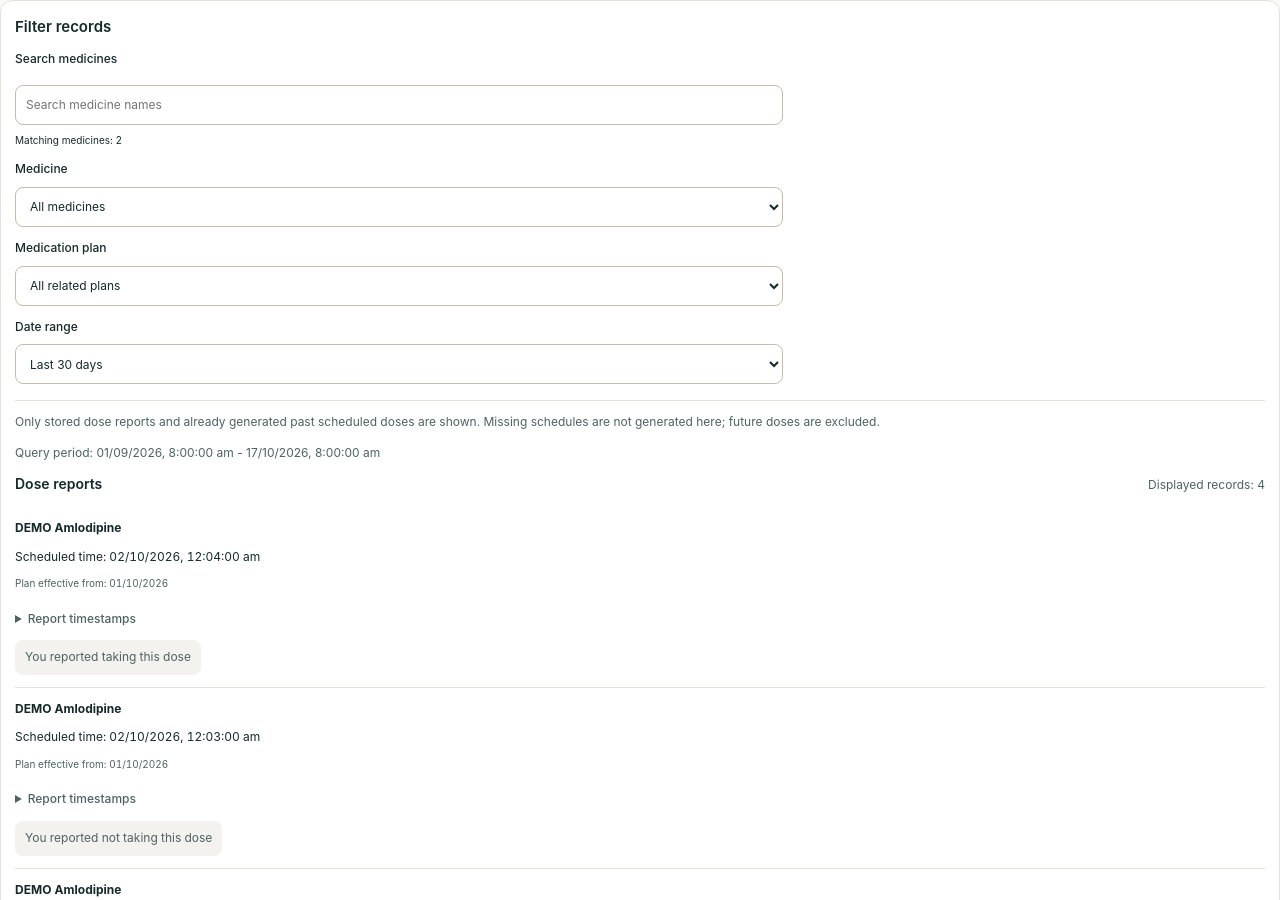
Test: keeps schedule/event/submission time separate and missing report unknown
The width and height of the screenshot is (1280, 900).
Expected: the text "Displayed records: 4" is shown, [1148,476,1265,495]
Expected: the list item does not show "You reported taking"
Click the heading "Report timestamps" below "02/10/2026, 12:04:00 am".
click(82, 618)  # box [28,611,136,626]
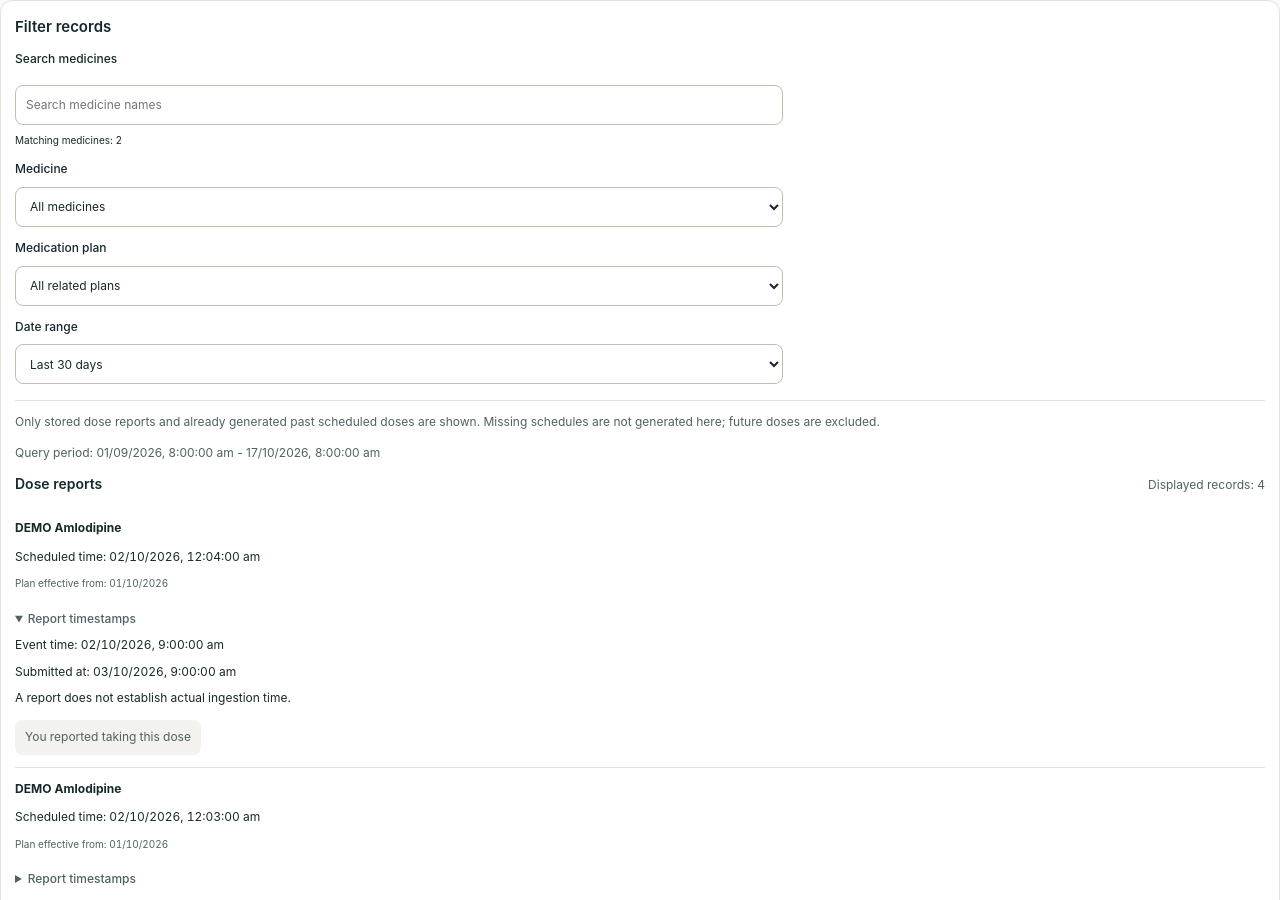
Expected: the 1st list item shows "Submitted at", [15,664,86,679]
Expected: the 1st list item shows "Event time", [15,637,74,652]
